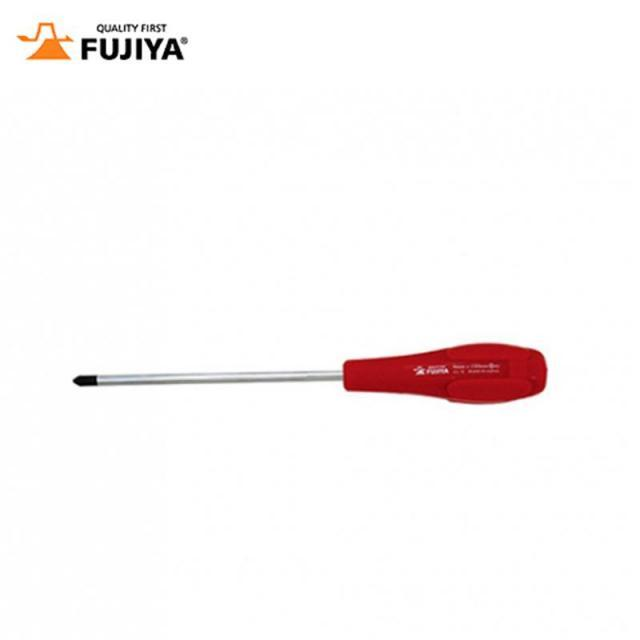screwdriver: (69, 342, 548, 409)
